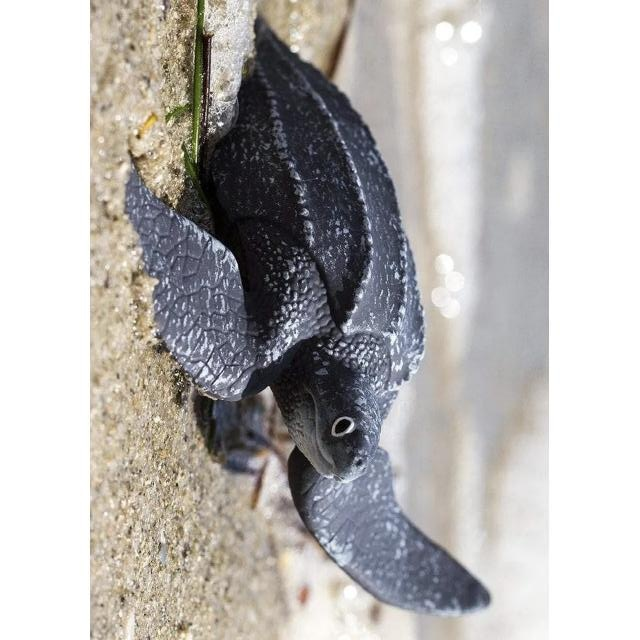turtle: (122, 15, 495, 620)
